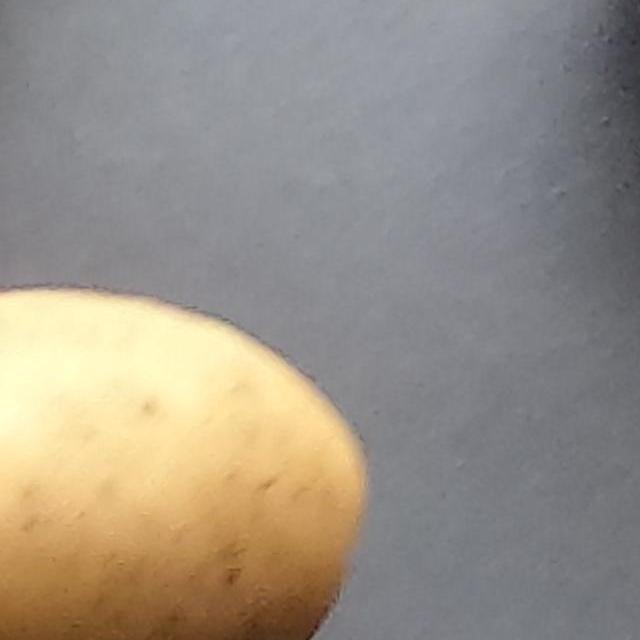potato: (0, 221, 412, 640)
